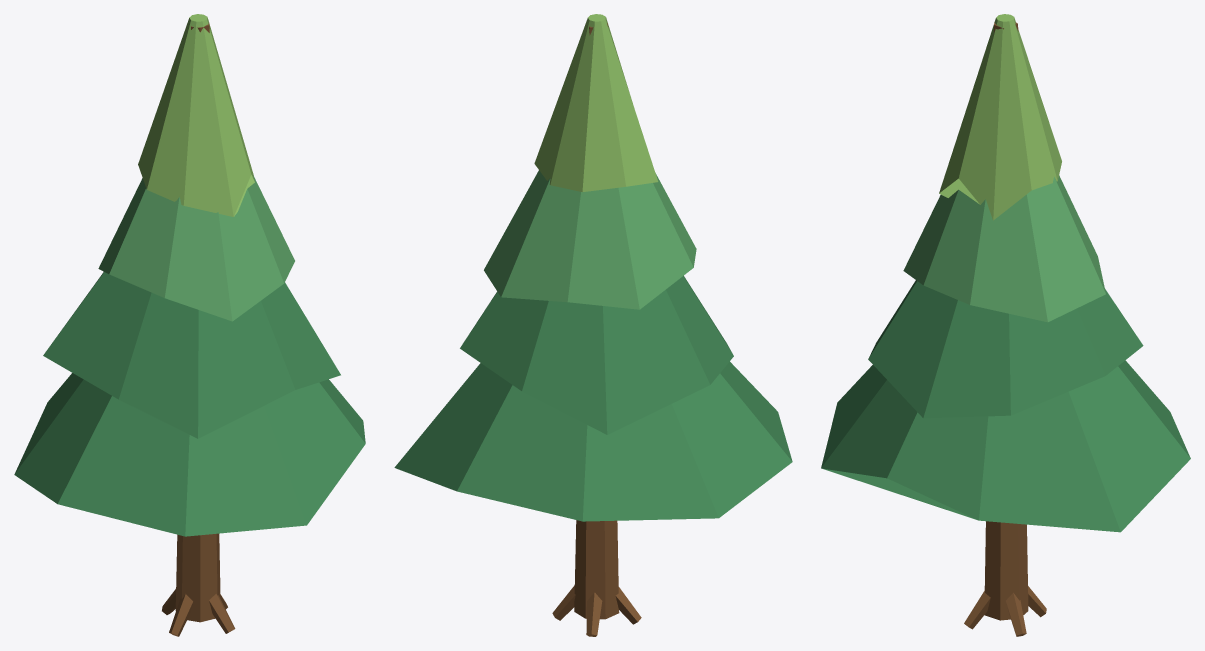
File: sm_env_forest_pine_sapling.glb
3 renders of one model, left to right at view 1: azimuth 30°, elevation 25°; view 2: azimuth 150°, elevation 25°; view 3: azimuth 270°, elevation 25°, orthographic.
Parts seen in each view (by area): view 1: PineTier, PineTier.001, PineTier.002, PineTier.003, Trunk, RootFlare.002, RootFlare.003; view 2: PineTier, PineTier.001, PineTier.002, PineTier.003, Trunk, RootFlare.001; view 3: PineTier, PineTier.001, PineTier.002, PineTier.003, Trunk, RootFlare.
Boxes of the visible parts, box(x1,y1,x2,y2) form: PineTier: box(14, 373, 365, 536); PineTier.001: box(43, 272, 340, 438); PineTier.002: box(98, 175, 294, 321); PineTier.003: box(138, 14, 254, 216); Trunk: box(175, 22, 220, 622); RootFlare.002: box(169, 594, 193, 636); RootFlare.003: box(209, 593, 235, 633); PineTier: box(394, 361, 792, 521); PineTier.001: box(460, 275, 733, 434); PineTier.002: box(484, 170, 696, 309); PineTier.003: box(534, 14, 658, 192); Trunk: box(574, 23, 619, 619); RootFlare.001: box(586, 592, 602, 636); PineTier: box(821, 360, 1190, 532); PineTier.001: box(868, 280, 1143, 418); PineTier.002: box(903, 175, 1105, 322); PineTier.003: box(939, 14, 1061, 220); Trunk: box(984, 22, 1028, 620); RootFlare: box(1006, 592, 1026, 636).
Size of the model in its own units: 1.59 by 2.88 by 1.6.
